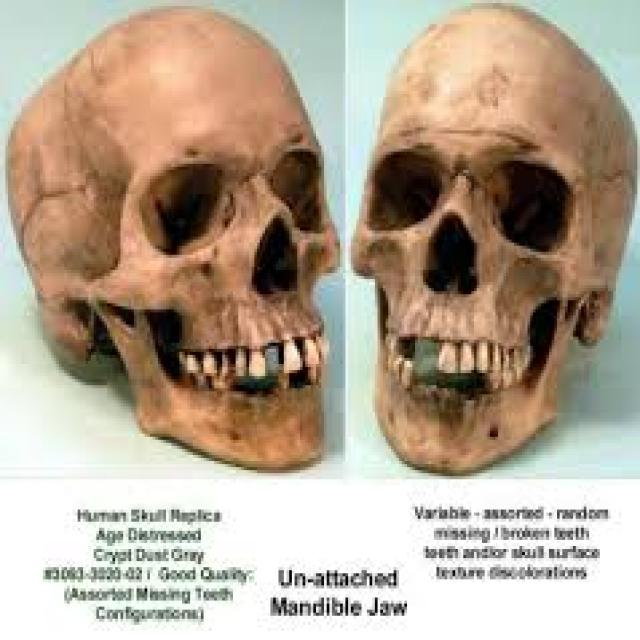skull: (9, 13, 348, 476)
